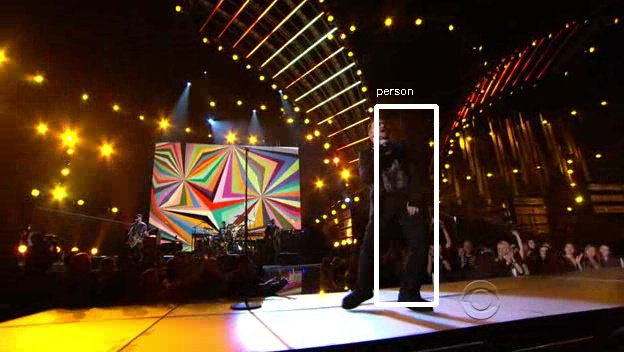person: (358, 118, 425, 231), (355, 118, 422, 231), (361, 118, 428, 231), (358, 115, 425, 228), (358, 121, 425, 234)
target_negative: (3, 50, 622, 166), (185, 234, 599, 341), (228, 7, 505, 126), (292, 334, 566, 346), (487, 117, 618, 125), (618, 147, 619, 250)
